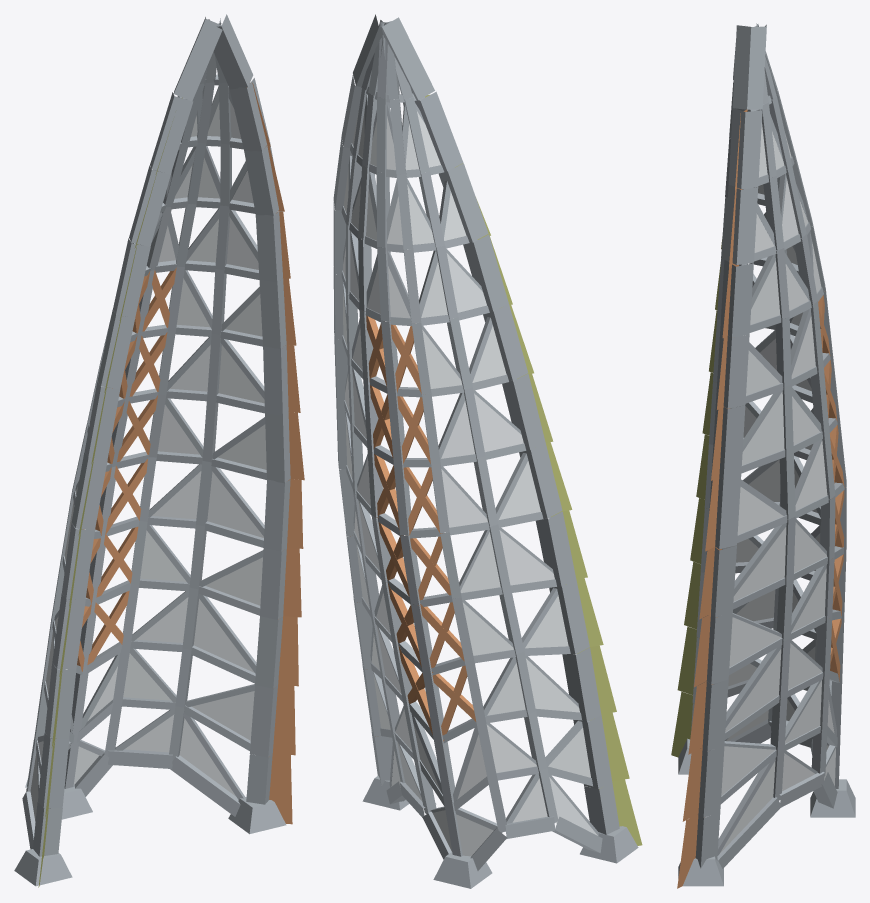
The model's file is detail.glb.
The picture shows the model from 3 angles, left to right: view 1: azimuth 30°, elevation 25°; view 2: azimuth 150°, elevation 25°; view 3: azimuth 270°, elevation 25°; orthographic projection. The views are drawn at different scales.
Visible parts, largest first — view 1: ascendus-charlotte; view 2: ascendus-charlotte; view 3: ascendus-charlotte.
Part boxes in pixels (x1=…): ascendus-charlotte: x1=14, y1=14, x2=304, y2=887; ascendus-charlotte: x1=333, y1=14, x2=642, y2=888; ascendus-charlotte: x1=671, y1=23, x2=855, y2=888.
Bounding box in the file's own units: 6.86 × 18.44 × 3.64.
